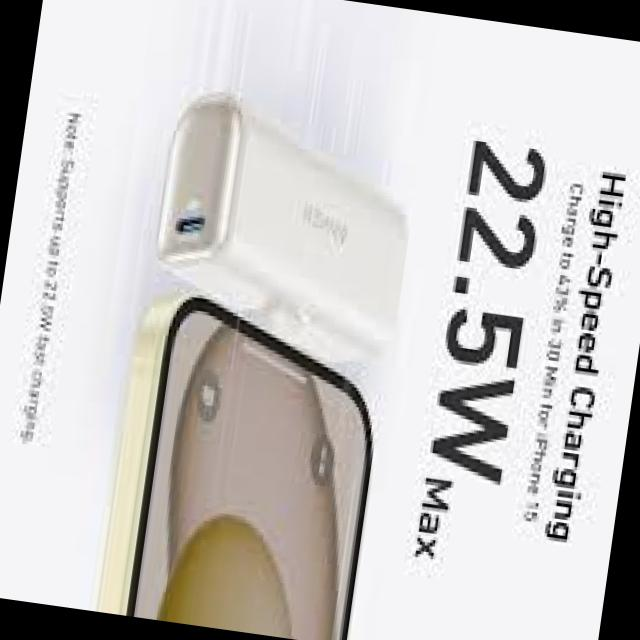portable-charger: (138, 88, 429, 386)
